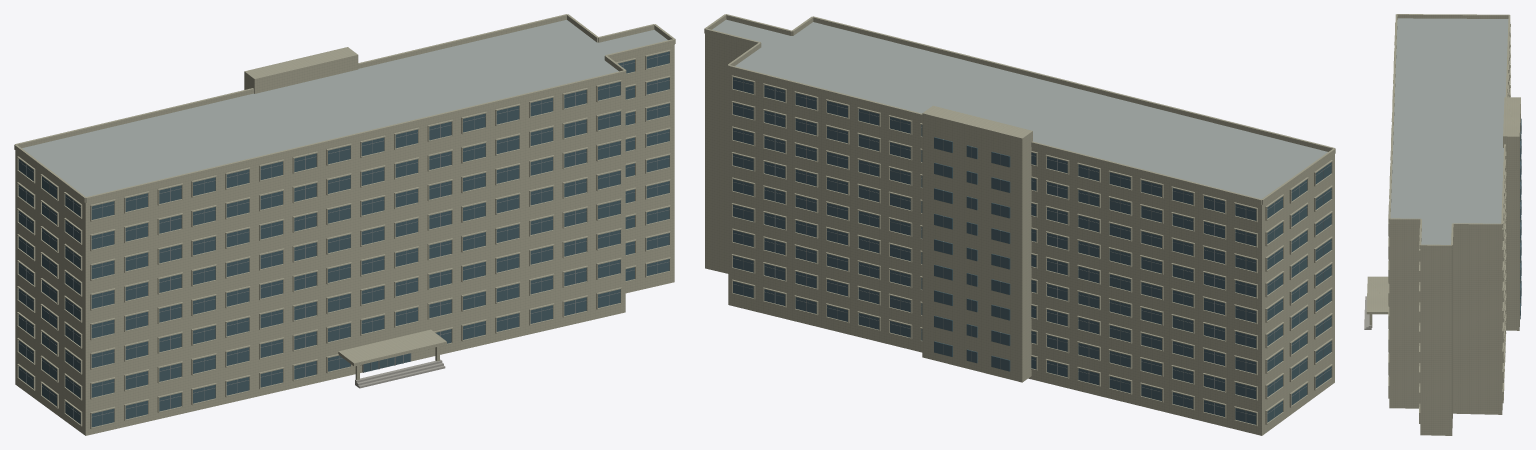
File: it1-418-intact-standalone.glb
3 renders of one model, left to right at view 1: azimuth 30°, elevation 25°; view 2: azimuth 150°, elevation 25°; view 3: azimuth 270°, elevation 25°, orthographic. The views are drawn at different scales.
Visible parts, largest first — view 1: IT 1호관, v7 | 창 근사 | IT 1호관 [468931895], PhotoDetail | IT 1호관 | PhotoDetail pale ceramic, PhotoDetail | IT 1호관 | PhotoDetail aluminum, PhotoDetail | IT 1호관 | PhotoDetail concrete; view 2: IT 1호관, PhotoDetail | IT 1호관 | PhotoDetail pale ceramic, v7 | 창 근사 | IT 1호관 [468931895], PhotoDetail | IT 1호관 | PhotoDetail dark glazing, PhotoDetail | IT 1호관 | PhotoDetail aluminum; view 3: IT 1호관, PhotoDetail | IT 1호관 | PhotoDetail pale ceramic, PhotoDetail | IT 1호관 | PhotoDetail dark glazing.
Part boxes in pixels (box(x1,y1,x2,y2)): IT 1호관: box(15, 20, 674, 435); v7 | 창 근사 | IT 1호관 [468931895]: box(18, 51, 669, 427); PhotoDetail | IT 1호관 | PhotoDetail pale ceramic: box(14, 14, 675, 428); PhotoDetail | IT 1호관 | PhotoDetail aluminum: box(18, 54, 669, 424); PhotoDetail | IT 1호관 | PhotoDetail concrete: box(355, 359, 445, 388); IT 1호관: box(705, 19, 1334, 435); PhotoDetail | IT 1호관 | PhotoDetail pale ceramic: box(704, 14, 1335, 426); v7 | 창 근사 | IT 1호관 [468931895]: box(733, 77, 1331, 424); PhotoDetail | IT 1호관 | PhotoDetail dark glazing: box(934, 137, 1010, 371); PhotoDetail | IT 1호관 | PhotoDetail aluminum: box(733, 80, 1331, 422); IT 1호관: box(1389, 18, 1508, 435); PhotoDetail | IT 1호관 | PhotoDetail pale ceramic: box(1366, 14, 1520, 423); PhotoDetail | IT 1호관 | PhotoDetail dark glazing: box(1520, 118, 1521, 319).
Size of the model in its own units: 2.81 by 1.12 by 0.8076.
6 materials, 2 textured.
